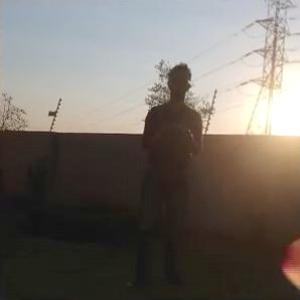follow: (117, 56, 203, 284)
